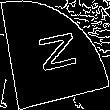N_W: (29, 29, 81, 81)
